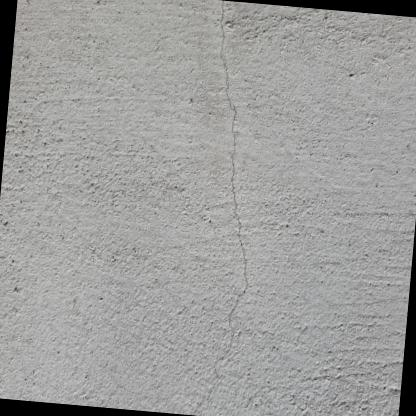crack: (197, 0, 248, 411)
